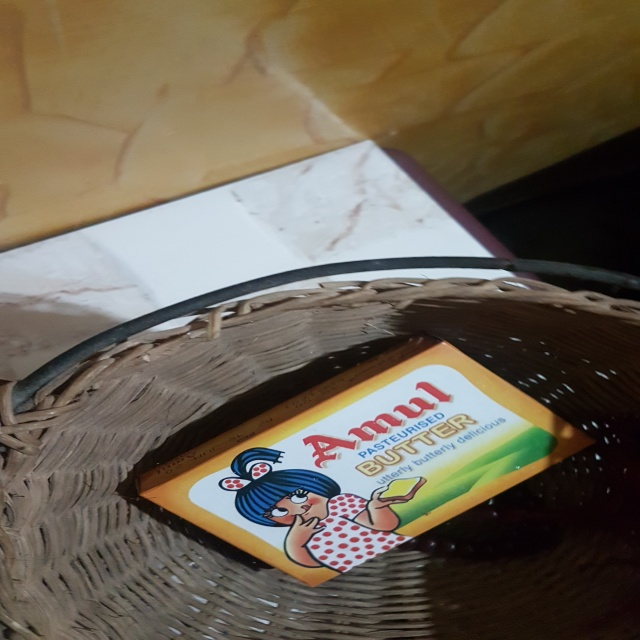butter: (132, 323, 599, 588)
